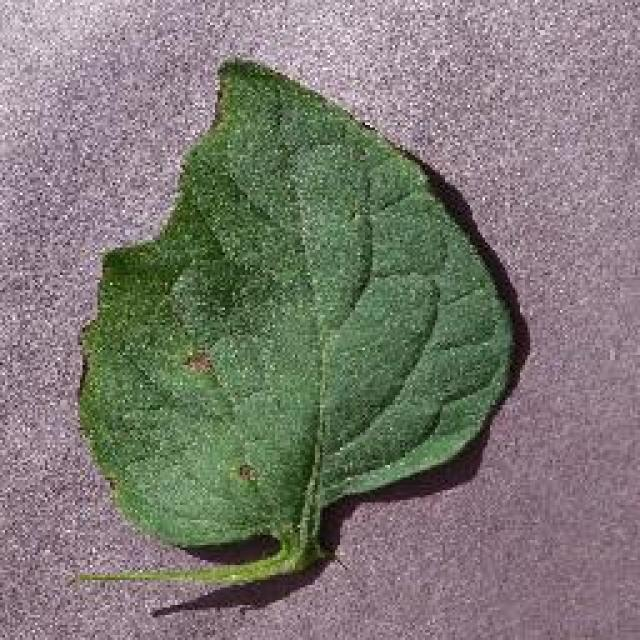Tomato___Target_Spot: (80, 60, 508, 580)
